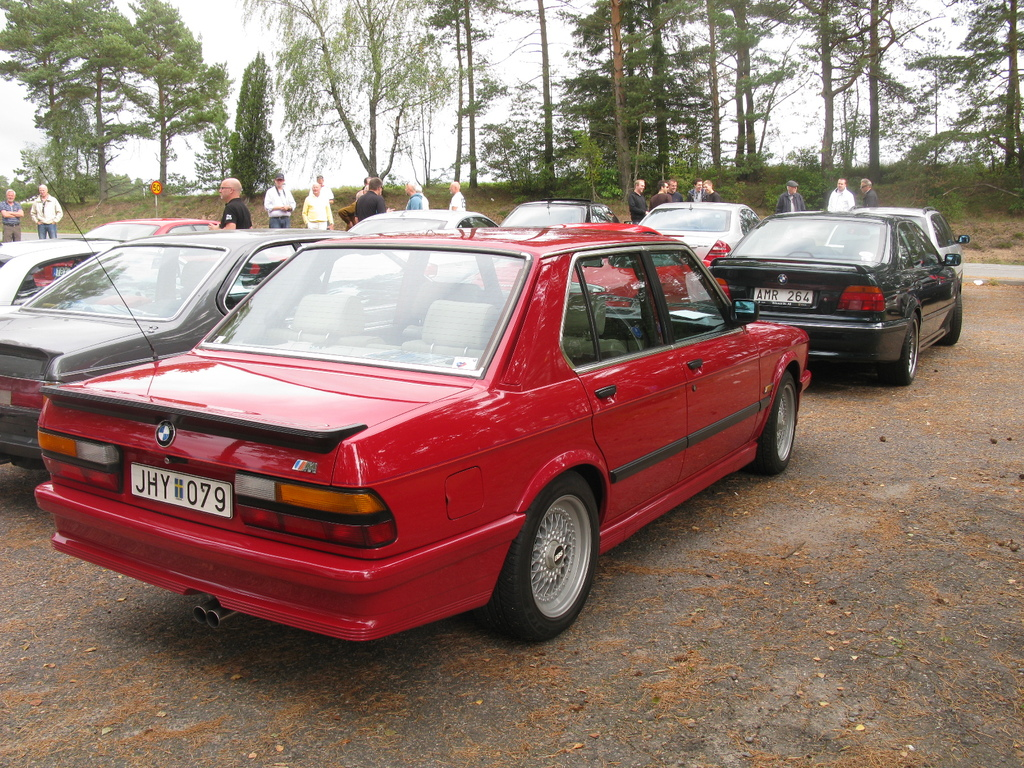license plate: (133, 456, 239, 496), (753, 285, 815, 307)
